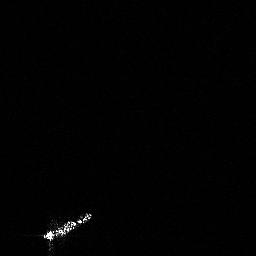ship: (43, 213, 93, 241)
